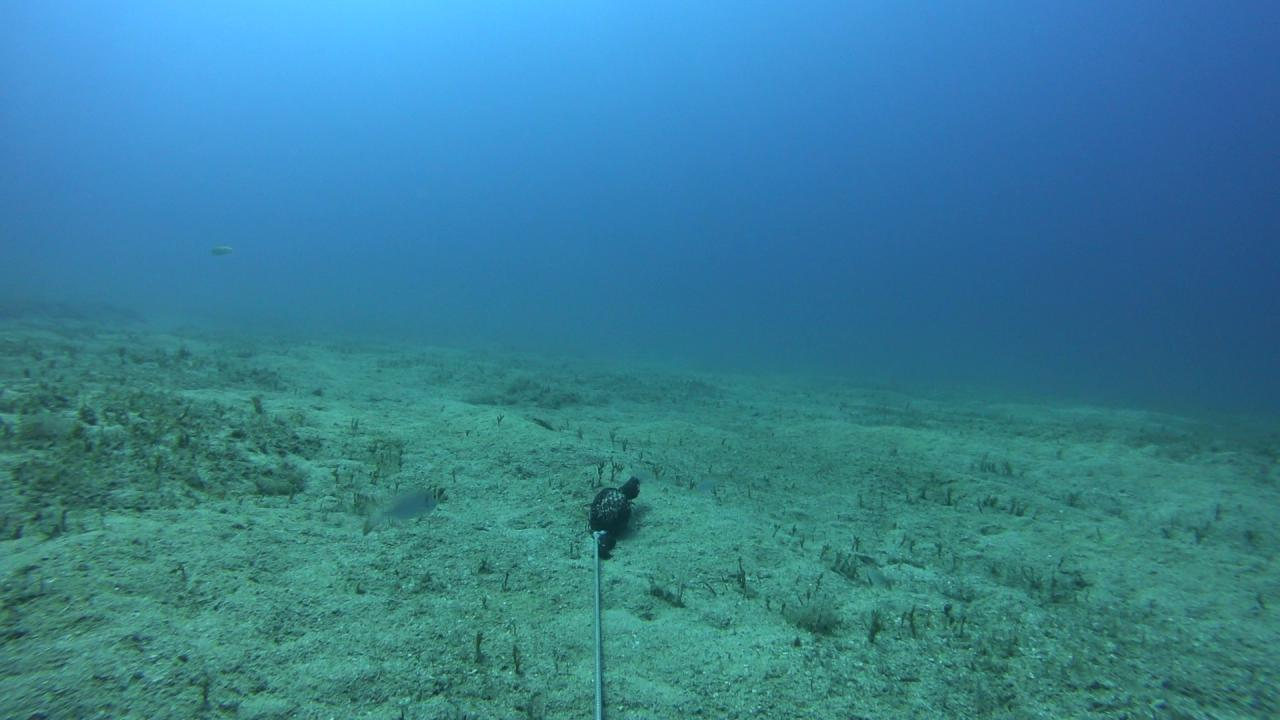pagellus: (360, 485, 439, 536)
